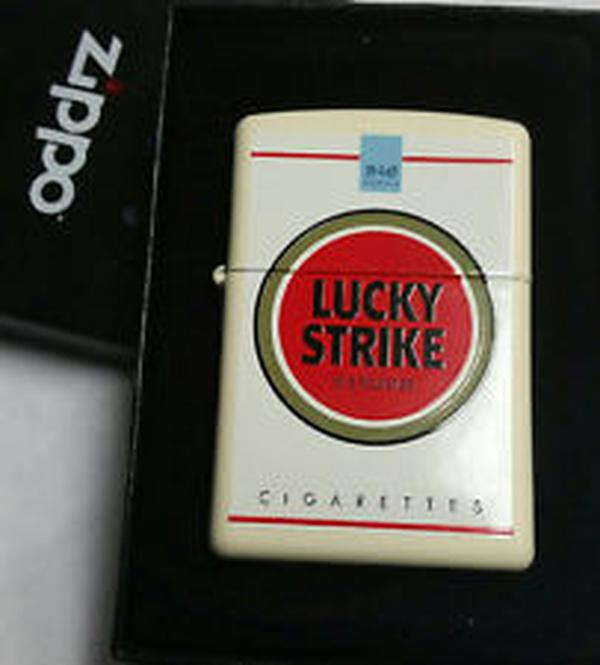lucky_strike_red: (226, 120, 531, 555)
